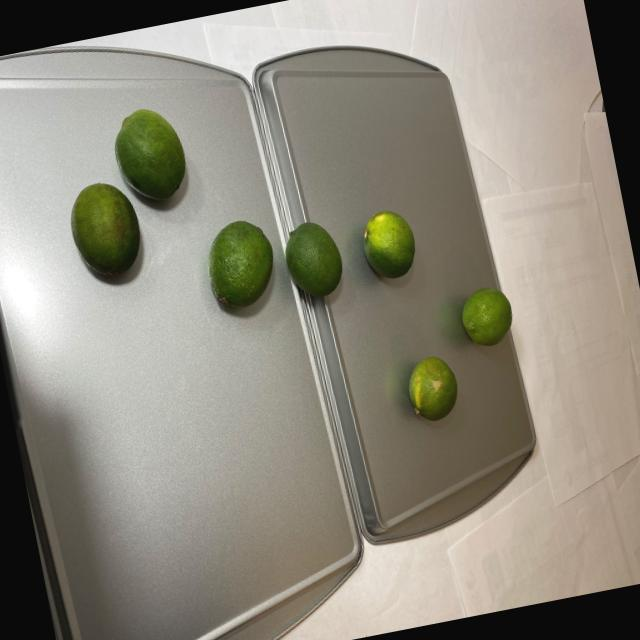lemon: (46, 43, 530, 485)
